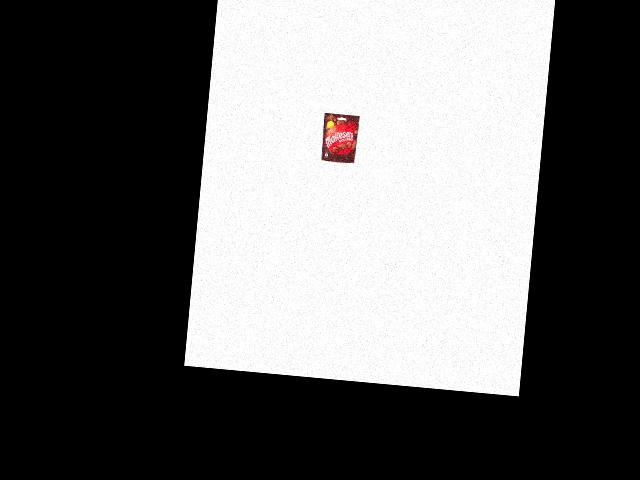chocolate: (319, 111, 360, 165)
